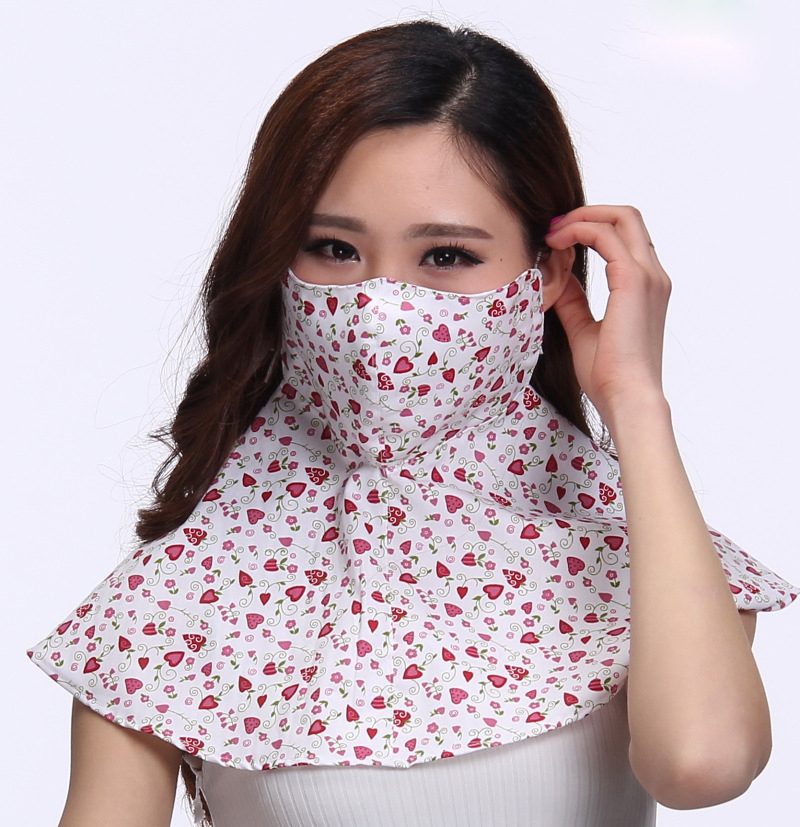face_mask: (279, 129, 526, 438)
